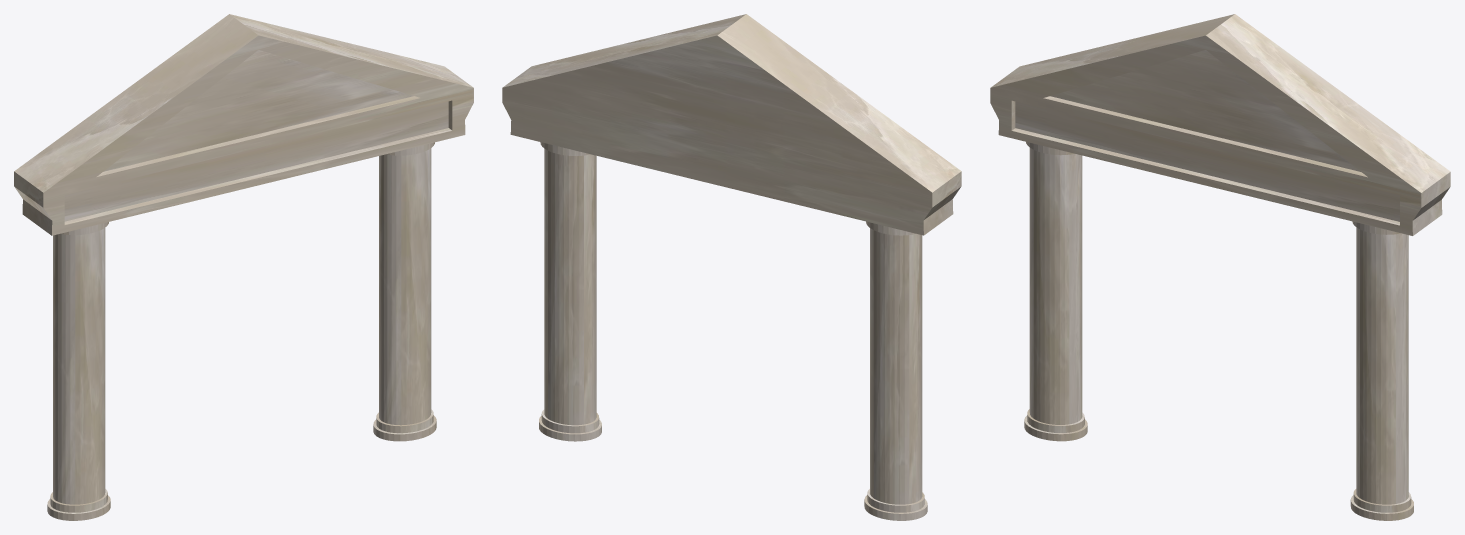
File: Portal.fbx
The picture shows the model from 3 angles, left to right: view 1: azimuth 30°, elevation 25°; view 2: azimuth 150°, elevation 25°; view 3: azimuth 330°, elevation 25°; orthographic projection.
Visible parts, largest first — view 1: Cube.074, Cylinder.031, Cylinder.036; view 2: Cube.074, Cylinder.036, Cylinder.031; view 3: Cube.074, Cylinder.036, Cylinder.031.
Boxes of the visible parts, x1,y1,x2,y2 form: Cube.074: (14, 14, 473, 235); Cylinder.031: (373, 142, 436, 441); Cylinder.036: (47, 222, 110, 520); Cube.074: (502, 14, 961, 235); Cylinder.036: (864, 221, 927, 520); Cylinder.031: (539, 142, 601, 441); Cube.074: (990, 14, 1450, 235); Cylinder.036: (1024, 142, 1087, 441); Cylinder.031: (1350, 221, 1413, 520).
Bounding box in the file's own units: 643 × 634 × 75.9.
Materials: 1 (1 with a texture image).
